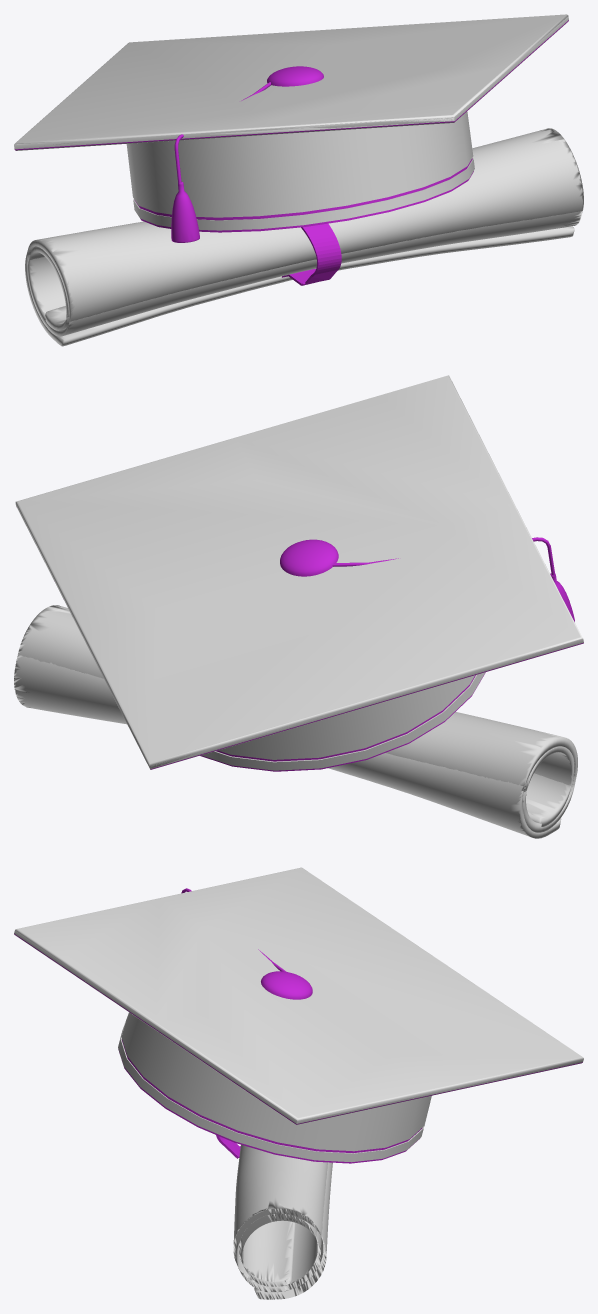
File: graduation.glb
3 renders of one model, top to bottom at view 1: azimuth 30°, elevation 25°; view 2: azimuth 150°, elevation 25°; view 3: azimuth 270°, elevation 25°, orthographic. The views are drawn at different scales.
Visible parts, largest first — view 1: calotte, bouton central; view 2: calotte, bouton central; view 3: calotte, bouton central.
Part boxes in pixels (box(x1,y1,x2,y2)): calotte: box(14, 14, 583, 346); bouton central: box(14, 20, 568, 285); calotte: box(14, 375, 583, 838); bouton central: box(150, 537, 583, 771); calotte: box(14, 867, 583, 1299); bouton central: box(14, 888, 582, 1163).
Size of the model in its own units: 4001 by 1924 by 3872.
